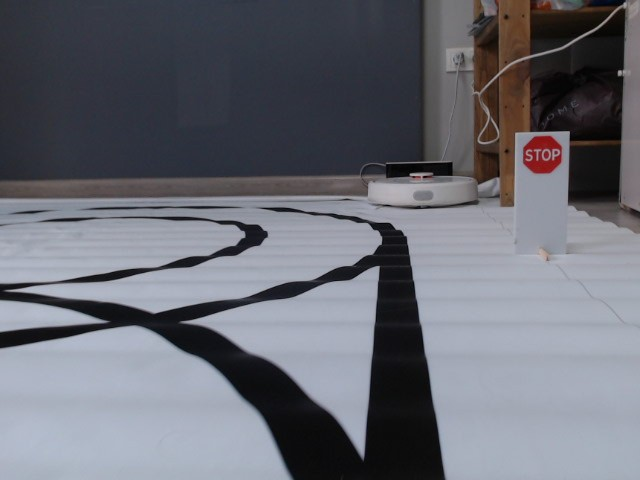Stop: (522, 135, 563, 175)
